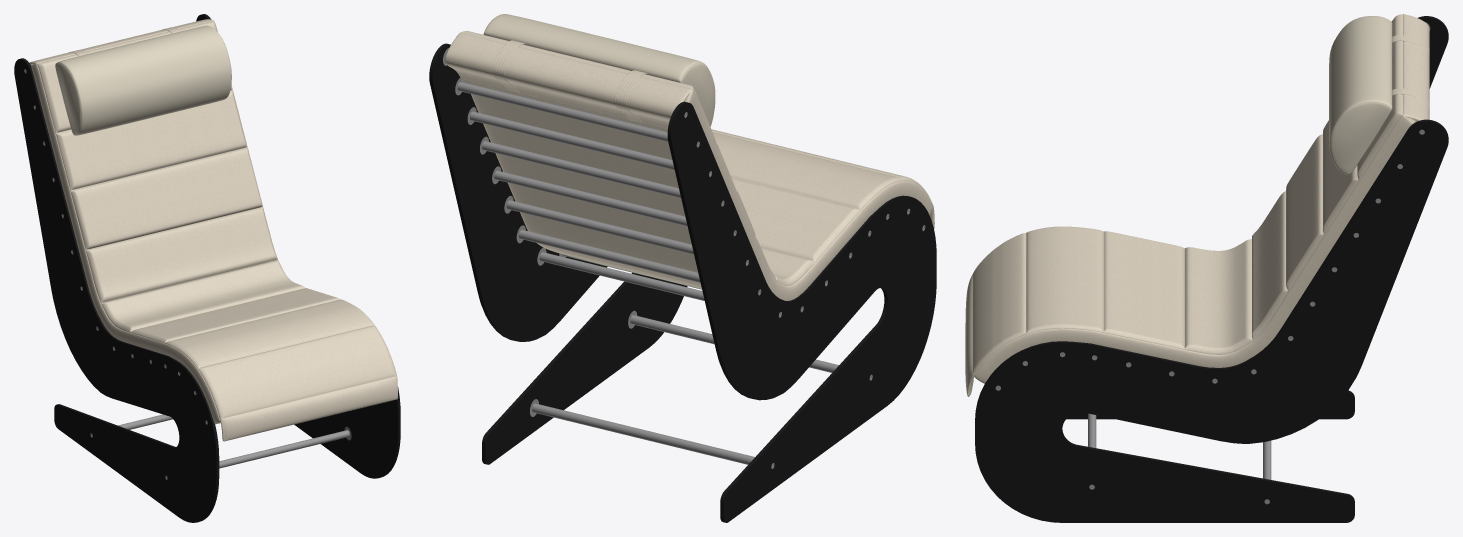
File: angel-poltrona-clun-284.glb
3 renders of one model, left to right at view 1: azimuth 30°, elevation 25°; view 2: azimuth 150°, elevation 25°; view 3: azimuth 270°, elevation 25°, orthographic. The views are drawn at different scales.
Parts seen in each view (by area): view 1: angel-seduta, angel-struttura, angel-tubolare; view 2: angel-struttura, angel-seduta, angel-tubolare; view 3: angel-struttura, angel-seduta, angel-tubolare.
Boxes of the visible parts, <box> form: angel-seduta: <box>29,19,397,441</box>; angel-struttura: <box>14,14,400,522</box>; angel-tubolare: <box>24,66,351,479</box>; angel-struttura: <box>429,43,936,522</box>; angel-seduta: <box>445,14,934,300</box>; angel-tubolare: <box>443,48,925,468</box>; angel-struttura: <box>975,16,1448,522</box>; angel-seduta: <box>965,14,1429,396</box>; angel-tubolare: <box>995,22,1430,504</box>.
Bounding box in the file's own units: 0.5685 × 1.04 × 1.1.
3 materials, 1 textured.
